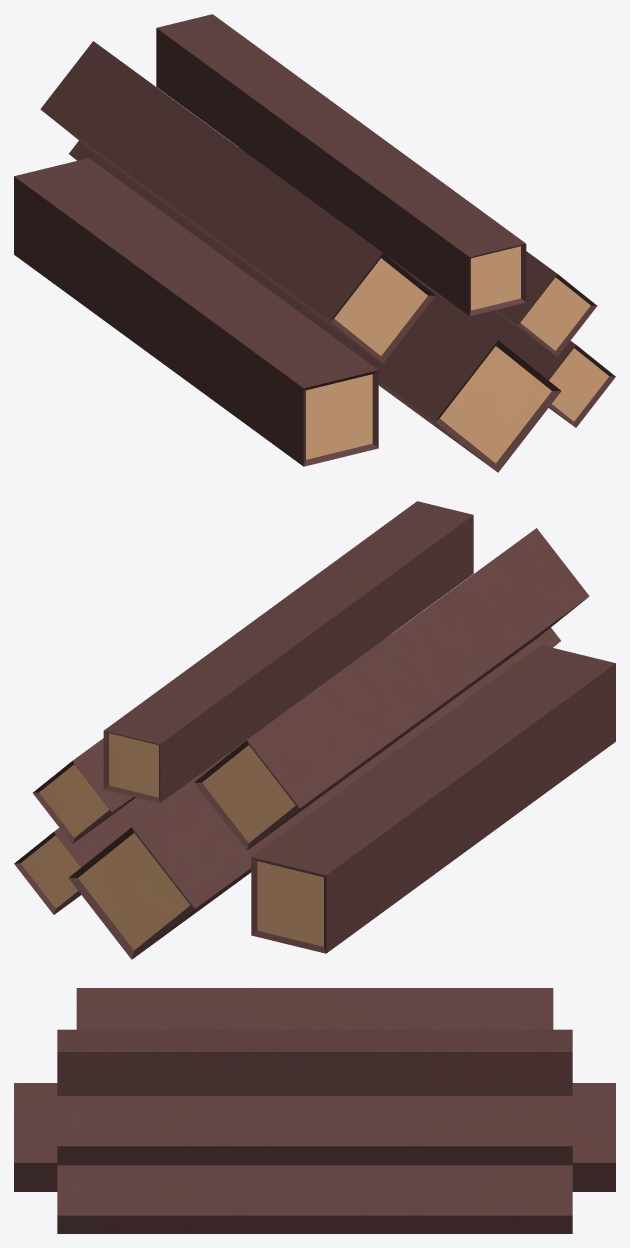
Rendered from Logs02.001.fbx.
3 views of the same model, one above another, from view 1: azimuth 30°, elevation 25°; view 2: azimuth 150°, elevation 25°; view 3: azimuth 270°, elevation 25° (orthographic). The views are drawn at different scales.
Visible parts, largest first — view 1: Logs02.001; view 2: Logs02.001; view 3: Logs02.001.
Part boxes in pixels (x1,y1,x2,y2): Logs02.001: [14, 14, 615, 472]; Logs02.001: [14, 501, 615, 959]; Logs02.001: [14, 988, 615, 1233].
Bounding box in the file's own units: 474 × 317 × 1000.
